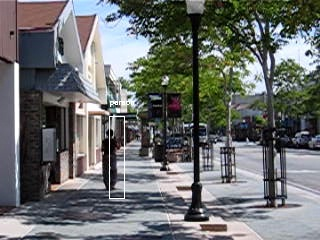person: (102, 129, 121, 190), (101, 129, 120, 190), (103, 129, 122, 190), (102, 128, 121, 189), (102, 130, 121, 191)
target_negative: (93, 125, 264, 229), (235, 20, 283, 218), (244, 64, 276, 234), (218, 164, 291, 217), (282, 36, 310, 89), (169, 119, 271, 128)
